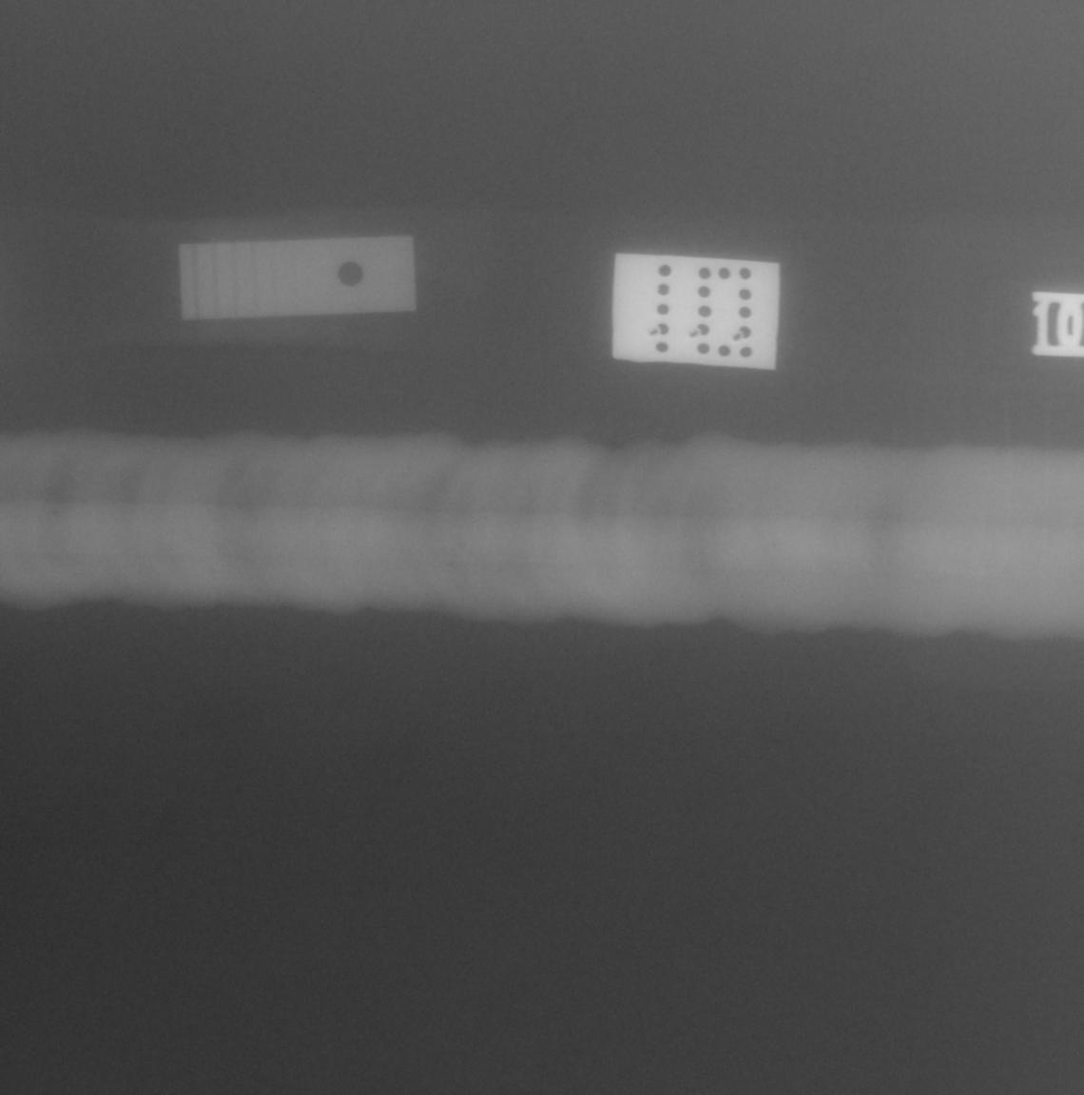Pore/Porosity: (449, 562, 453, 567), (769, 544, 775, 547), (52, 511, 56, 514)
